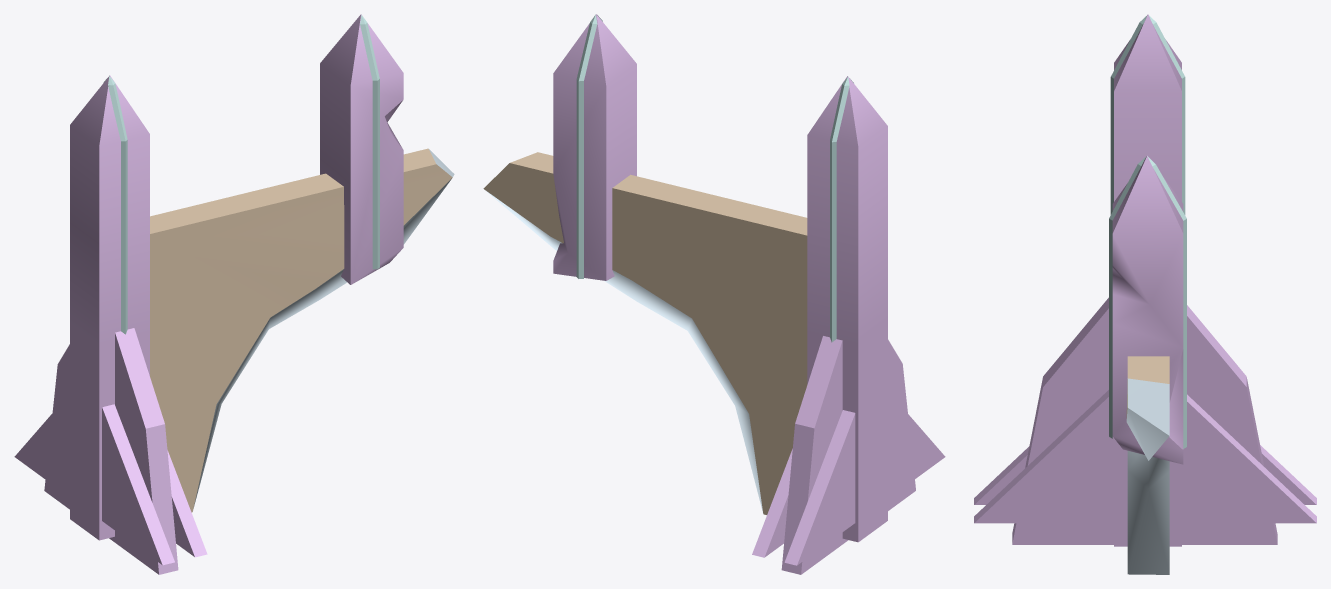
The picture shows the model from 3 angles, left to right: view 1: azimuth 30°, elevation 25°; view 2: azimuth 150°, elevation 25°; view 3: azimuth 270°, elevation 25°; orthographic projection. The views are drawn at different scales.
Parts seen in each view (by area): view 1: Object17; view 2: Object17; view 3: Object17.
Part boxes in pixels (x1,y1,x2,y2): Object17: (14,14,454,574); Object17: (483,14,945,574); Object17: (974,14,1316,574).
Bounding box in the file's own units: 516 × 591 × 350.
